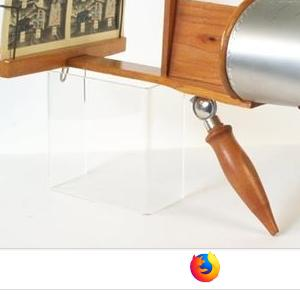firefox: (190, 251, 220, 282)
